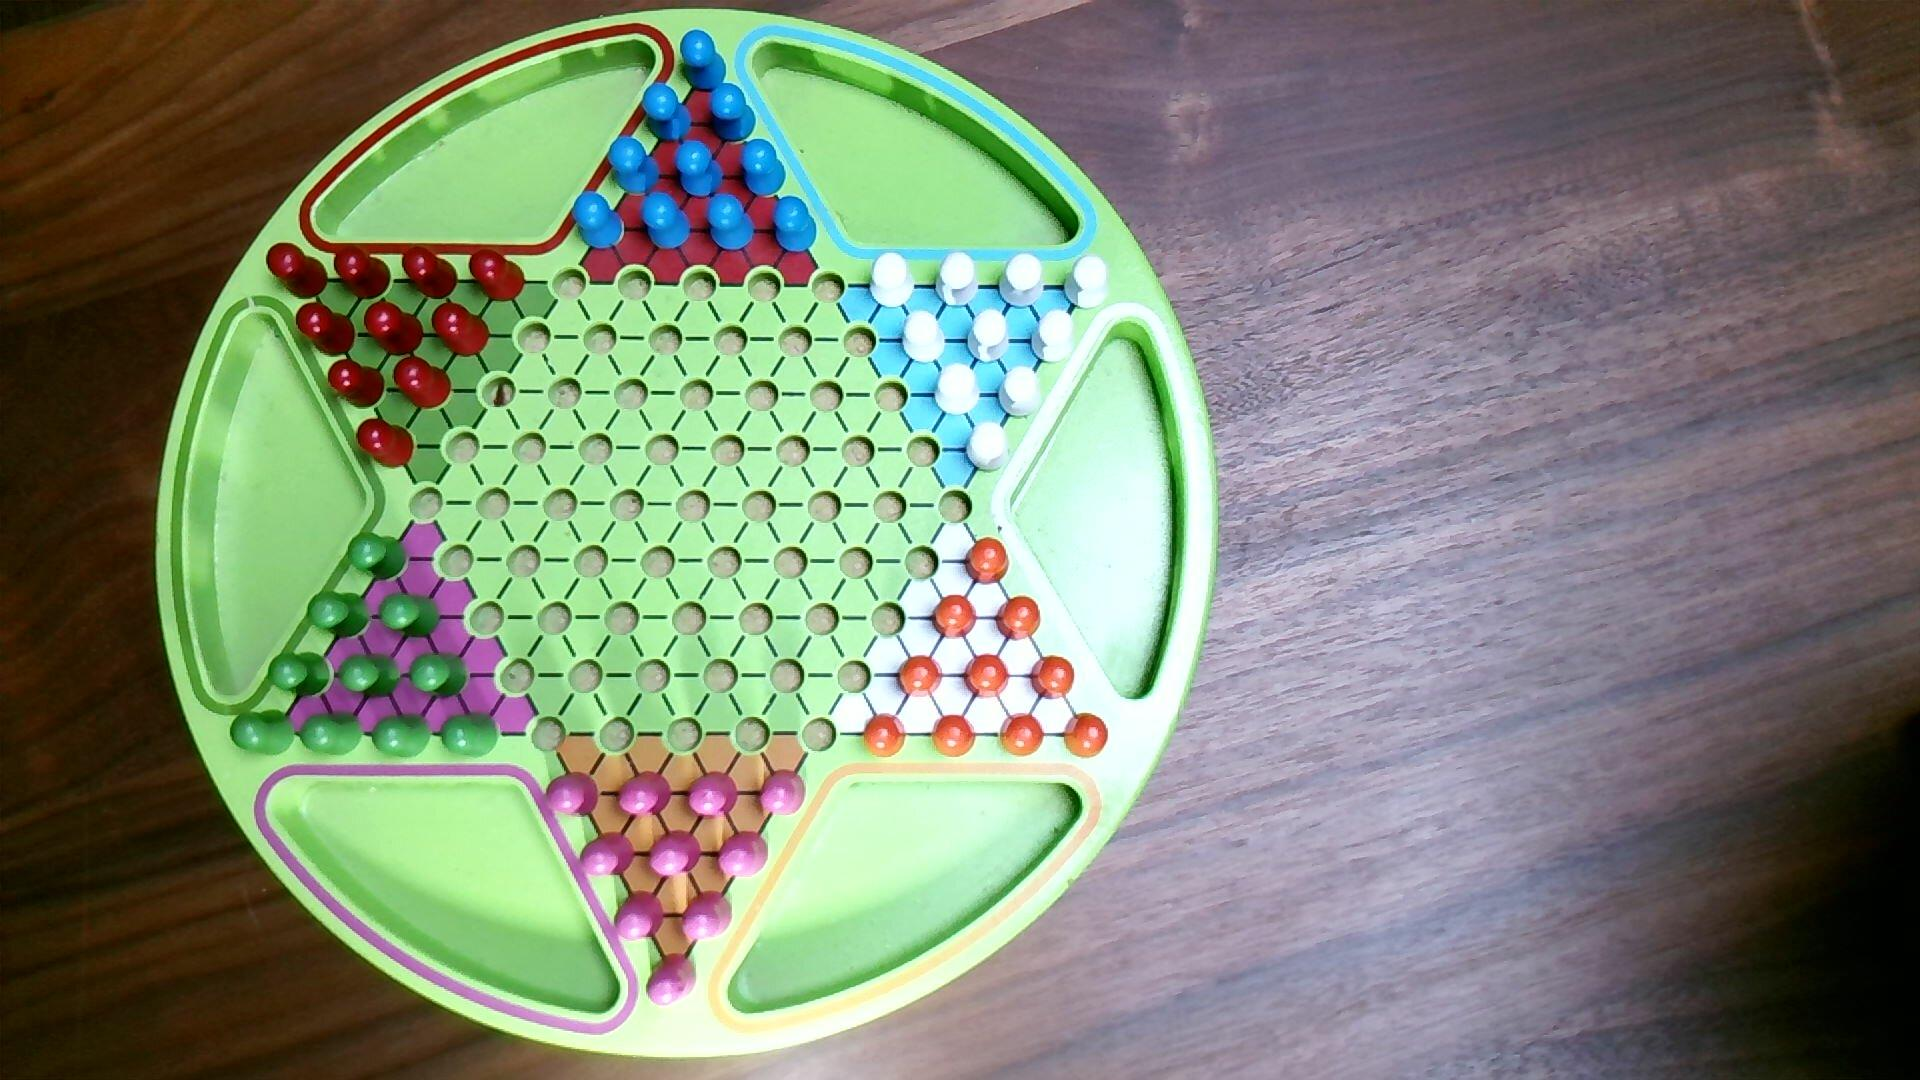B: (605, 133, 662, 198), (640, 80, 695, 145), (570, 190, 626, 252), (676, 29, 729, 94), (640, 191, 694, 253), (673, 138, 725, 200), (707, 82, 758, 145), (705, 193, 757, 253), (737, 138, 789, 199), (771, 194, 819, 255)
G: (306, 589, 373, 642), (228, 708, 297, 758), (336, 651, 404, 702), (345, 531, 410, 583), (377, 591, 443, 641), (266, 650, 332, 700), (407, 651, 471, 702), (439, 711, 502, 761), (298, 712, 364, 758), (371, 713, 434, 760)
O: (963, 535, 1011, 588), (1062, 712, 1112, 762), (994, 593, 1043, 644), (963, 653, 1011, 702), (895, 653, 945, 700), (861, 712, 909, 761), (930, 713, 978, 761), (997, 712, 1046, 760), (1029, 654, 1077, 702), (931, 593, 978, 642)
R: (266, 243, 331, 301), (363, 301, 427, 359), (430, 301, 493, 359), (392, 353, 455, 411), (334, 244, 394, 303), (295, 301, 357, 359), (353, 415, 418, 471), (467, 248, 527, 305), (401, 245, 460, 302), (326, 359, 386, 411)
R2: (644, 952, 699, 1007), (613, 889, 667, 944), (680, 887, 735, 943), (579, 829, 638, 878), (615, 770, 674, 819), (684, 770, 740, 822), (543, 771, 603, 819), (716, 829, 771, 880), (647, 829, 703, 880), (757, 767, 808, 819)
W: (866, 251, 916, 311), (997, 252, 1047, 311), (1029, 309, 1077, 367), (1062, 255, 1110, 313), (934, 251, 981, 310), (934, 361, 981, 419), (899, 309, 947, 367), (965, 307, 1011, 365), (997, 364, 1044, 419), (965, 421, 1011, 475)
